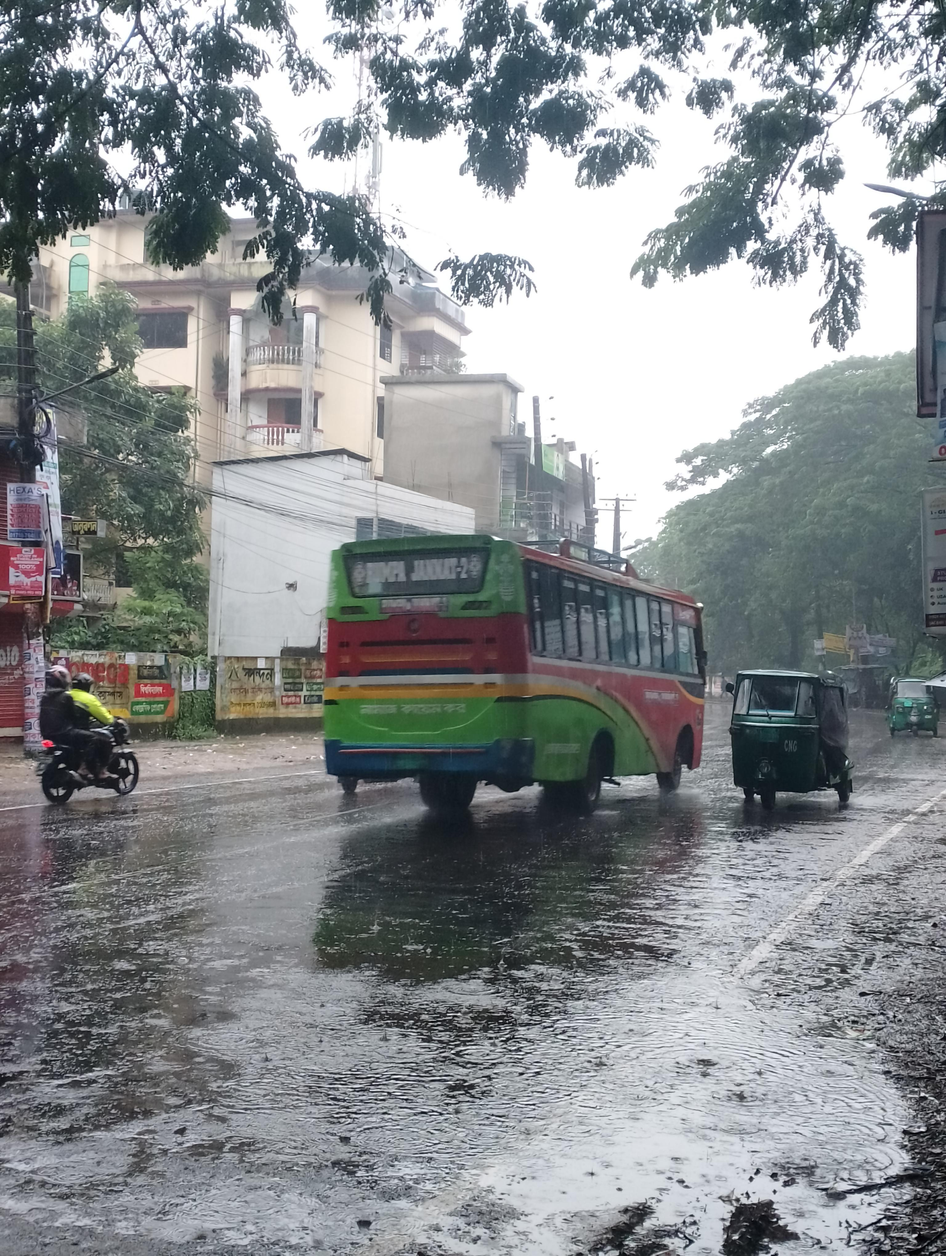Bike: (0, 630, 169, 824)
Bus: (292, 507, 718, 826)
